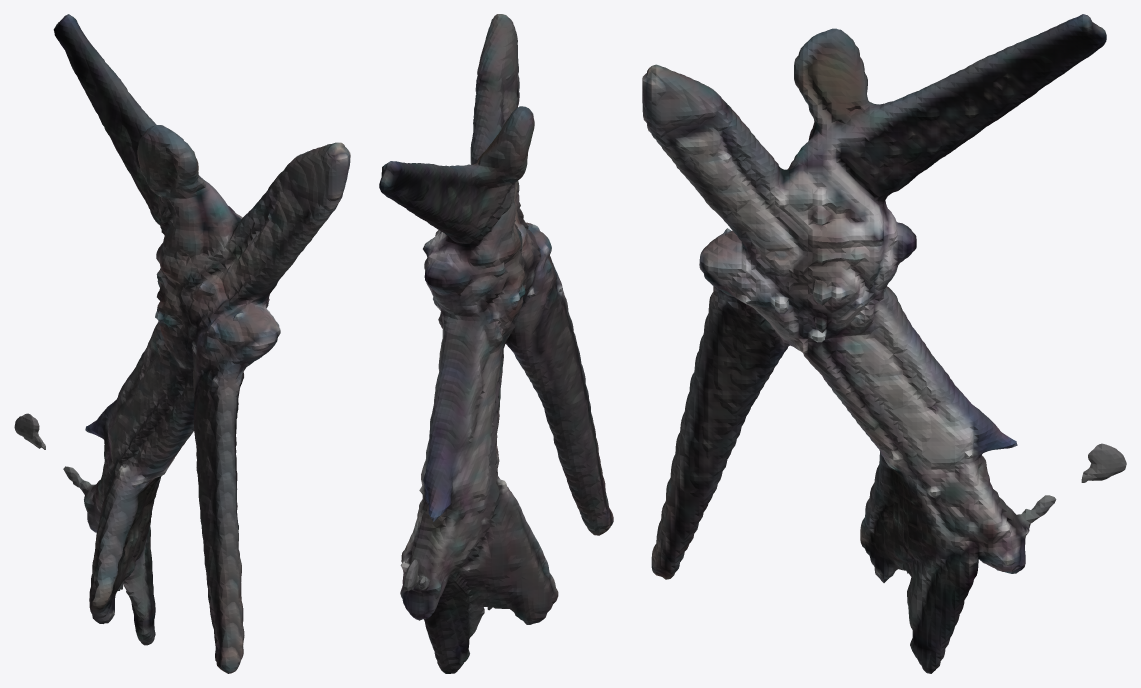
The picture shows the model from 3 angles, left to right: view 1: azimuth 30°, elevation 25°; view 2: azimuth 150°, elevation 25°; view 3: azimuth 270°, elevation 25°; orthographic projection. The views are drawn at different scales.
Size of the model in its own units: 0.3042 by 1.04 by 0.6975.
